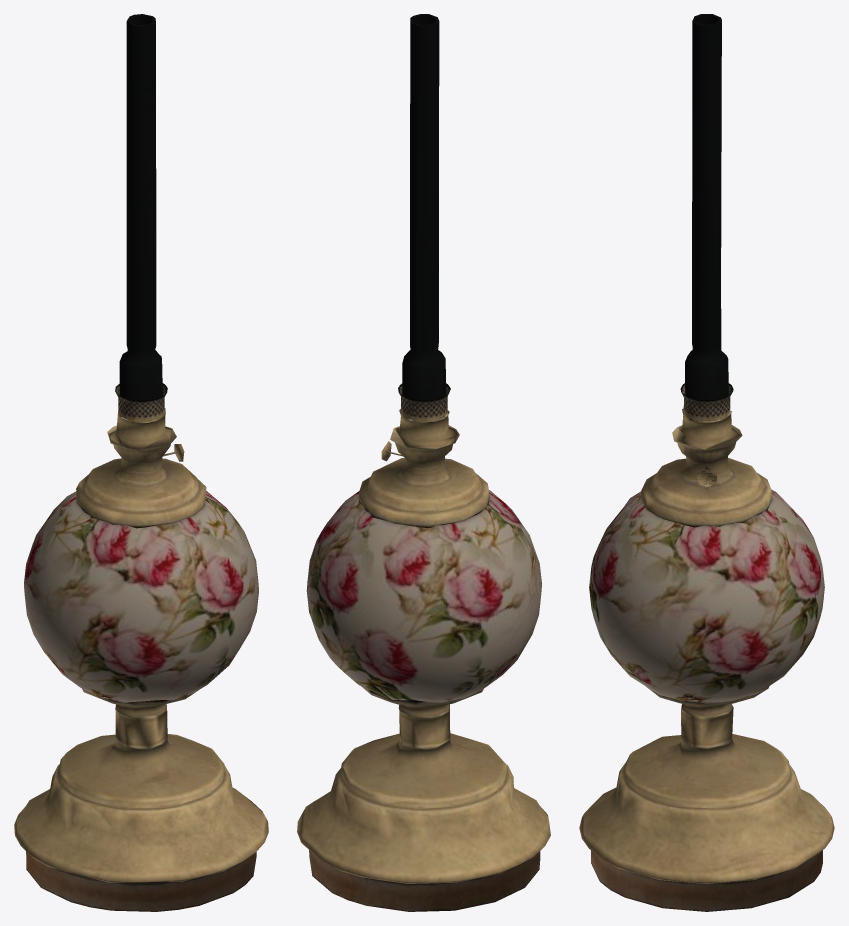
3 views of the same model, side by side, from view 1: azimuth 30°, elevation 25°; view 2: azimuth 150°, elevation 25°; view 3: azimuth 270°, elevation 25° (orthographic).
Visible parts, largest first — view 1: vintage_oil_lamp, vintage_oil_lamp_glass; view 2: vintage_oil_lamp, vintage_oil_lamp_glass; view 3: vintage_oil_lamp, vintage_oil_lamp_glass.
Part boxes in pixels (x1,y1,x2,y2): vintage_oil_lamp: (14, 408, 268, 911); vintage_oil_lamp_glass: (115, 14, 167, 422); vintage_oil_lamp: (297, 409, 550, 911); vintage_oil_lamp_glass: (398, 14, 450, 422); vintage_oil_lamp: (579, 408, 834, 911); vintage_oil_lamp_glass: (680, 14, 733, 421).
Size of the model in its own units: 0.22 by 0.8016 by 0.22.
Materials: 3 (3 with a texture image).
